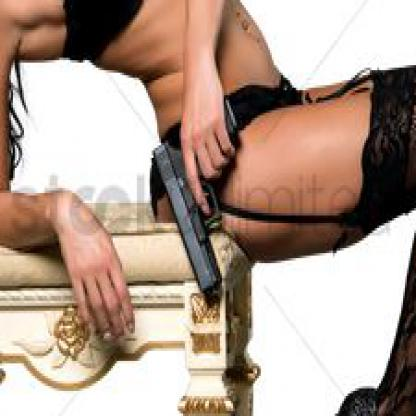gun: (137, 88, 248, 313)
